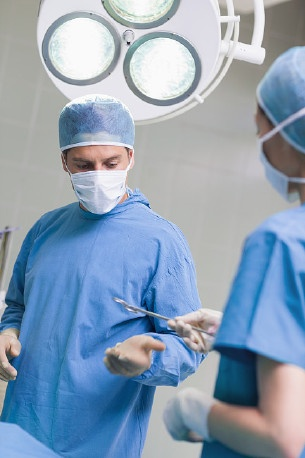Mask: (62, 142, 135, 215)
